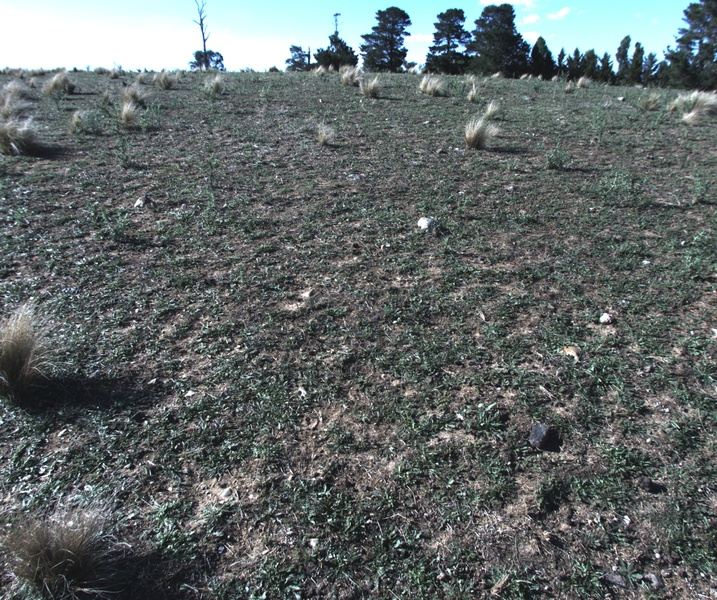st: (1, 503, 149, 600), (1, 301, 59, 385), (1, 113, 40, 152), (673, 91, 717, 125), (460, 114, 498, 153), (119, 84, 143, 127), (317, 118, 338, 151), (417, 77, 446, 98), (46, 72, 65, 101), (482, 102, 507, 124), (571, 74, 599, 93), (157, 69, 179, 93), (342, 63, 361, 89), (203, 73, 223, 95), (70, 107, 86, 133), (361, 78, 379, 101), (461, 79, 476, 104), (310, 66, 328, 77)
